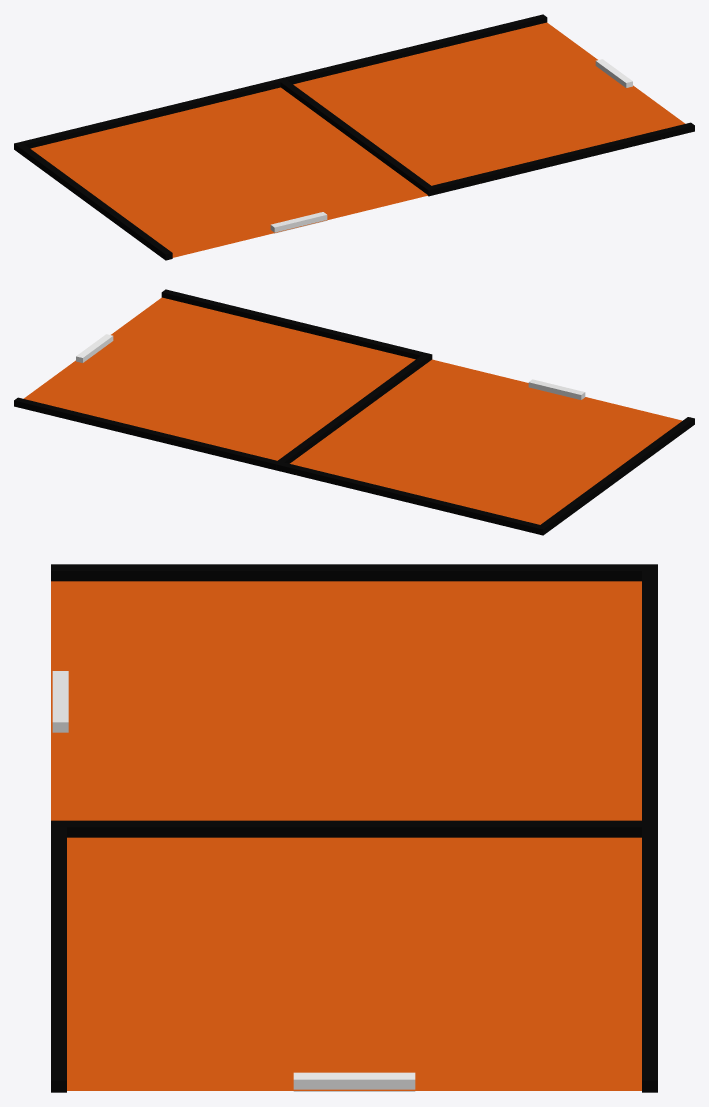
Rendered from saha3.fbx.
The picture shows the model from 3 angles, top to bottom: view 1: azimuth 30°, elevation 25°; view 2: azimuth 150°, elevation 25°; view 3: azimuth 270°, elevation 25°; orthographic projection. The views are drawn at different scales.
Parts seen in each view (by area): view 1: Plane, Cube.004, Cube.003, Cube.002, Cube.001, Cube, Cube.005, Cube.006; view 2: Plane, Cube.003, Cube.002, Cube.004, Cube.001, Cube, Cube.005, Cube.006; view 3: Plane, Cube.001, Cube, Cube.003, Cube.004, Cube.002, Cube.006, Cube.005.
Part boxes in pixels (left/top/right/bottom): Plane: left=30, top=22, right=685, bottom=257; Cube.004: left=432, top=122, right=694, bottom=194; Cube.003: left=281, top=14, right=547, bottom=84; Cube.002: left=18, top=78, right=284, bottom=148; Cube.001: left=14, top=142, right=172, bottom=260; Cube: left=280, top=80, right=435, bottom=196; Cube.005: left=270, top=212, right=327, bottom=233; Cube.006: left=595, top=59, right=632, bottom=87; Plane: left=23, top=297, right=682, bottom=524; Cube.003: left=14, top=397, right=279, bottom=470; Cube.002: left=276, top=461, right=542, bottom=533; Cube.004: left=161, top=289, right=424, bottom=359; Cube.001: left=536, top=417, right=694, bottom=535; Cube: left=277, top=352, right=432, bottom=471; Cube.005: left=528, top=379, right=585, bottom=399; Cube.006: left=76, top=334, right=113, bottom=362; Plane: left=51, top=581, right=641, bottom=1090; Cube.001: left=51, top=564, right=657, bottom=581; Cube: left=51, top=820, right=641, bottom=837; Cube.003: left=642, top=825, right=657, bottom=1092; Cube.004: left=51, top=827, right=66, bottom=1092; Cube.002: left=642, top=568, right=657, bottom=824; Cube.006: left=293, top=1072, right=415, bottom=1091; Cube.005: left=52, top=671, right=68, bottom=732.
Size of the model in its own units: 3021 by 32.91 by 1500.
